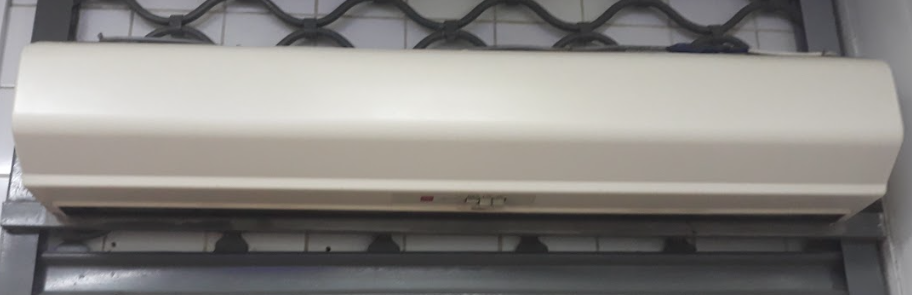Air Curtain: (8, 23, 906, 261)
